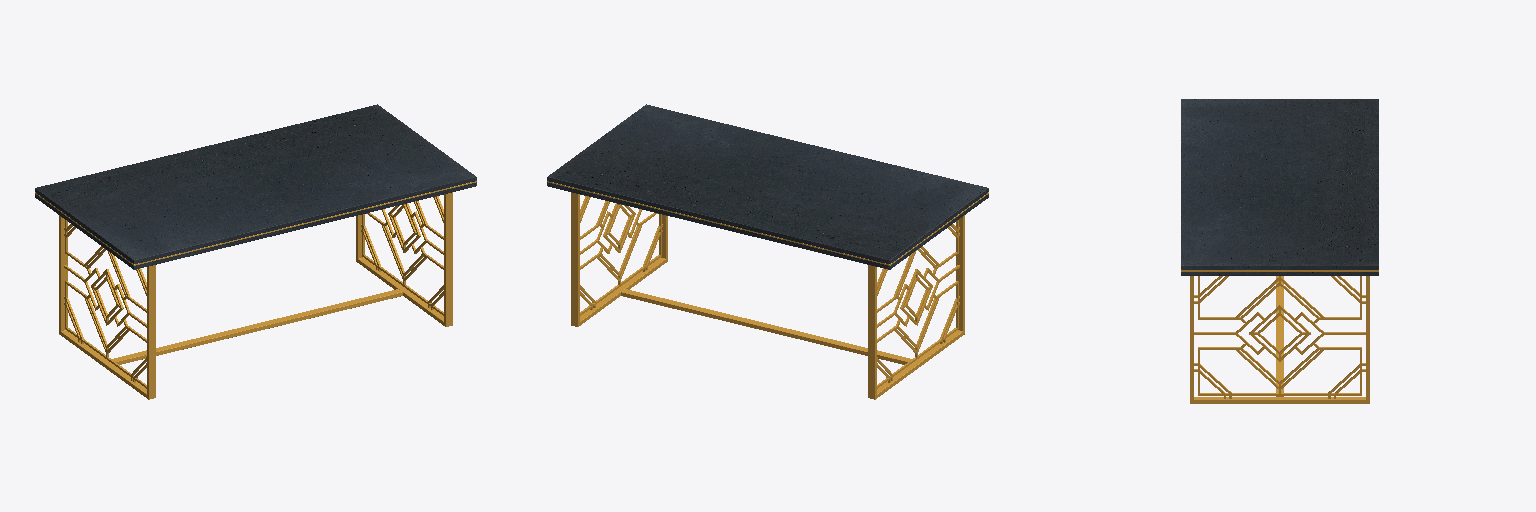
3 renders of one model, left to right at view 1: azimuth 30°, elevation 25°; view 2: azimuth 150°, elevation 25°; view 3: azimuth 270°, elevation 25°, orthographic.
Visible parts, largest first — view 1: 0_Mesh, 0.001_Mesh.001; view 2: 0_Mesh, 0.001_Mesh.001; view 3: 0_Mesh, 0.001_Mesh.001.
Boxes of the visible parts, <box> form: 0_Mesh: <box>35,104,476,269</box>; 0.001_Mesh.001: <box>35,181,476,399</box>; 0_Mesh: <box>547,104,988,269</box>; 0.001_Mesh.001: <box>547,181,988,399</box>; 0_Mesh: <box>1181,99,1378,275</box>; 0.001_Mesh.001: <box>1181,270,1378,403</box>.
Size of the model in its own units: 3.6 by 1.48 by 1.8.
2 materials, 1 textured.